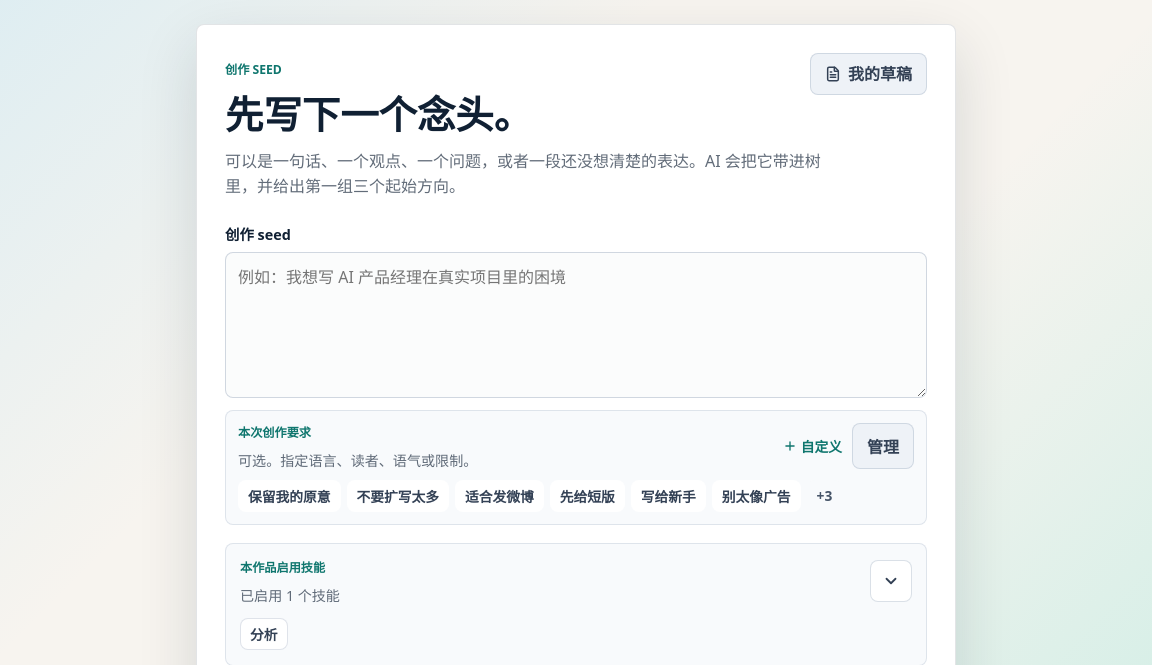
RootMemorySetup › keeps the custom request textarea collapsed until needed
The width and height of the screenshot is (1152, 665).
Expected: the field labelled "自定义创作要求" is not shown
Click the button with aria-label "展开自定义创作要求" at (812, 446), box [783,432,842,460]
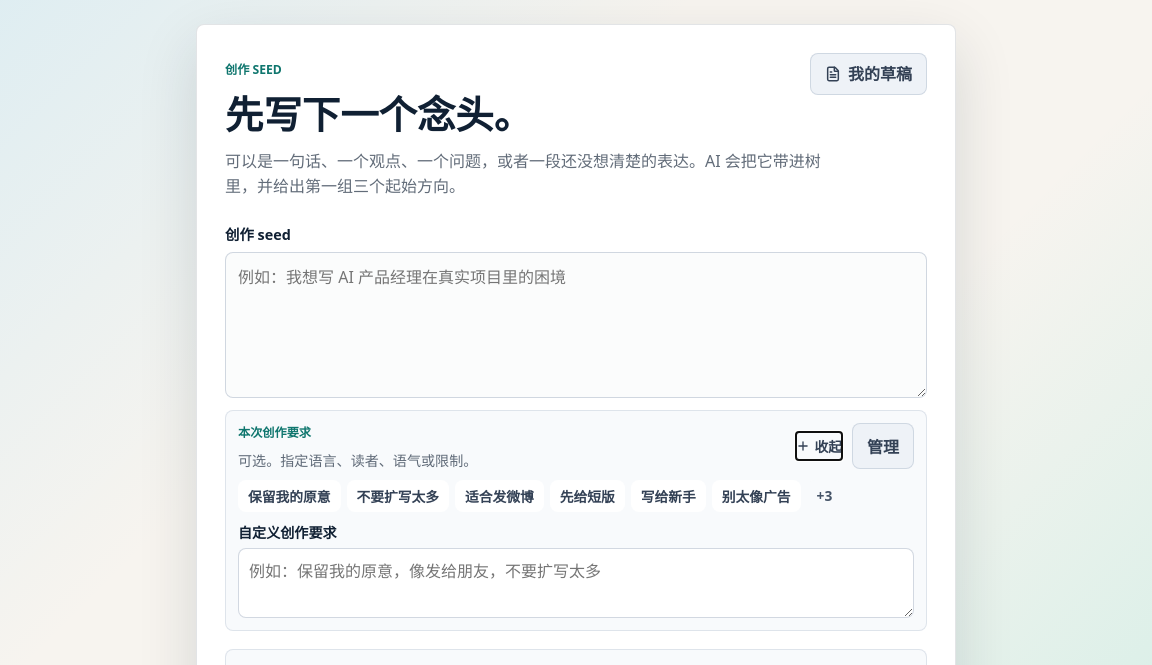
Now the text box labelled "自定义创作要求" is shown, box [238,548,914,618]
Now the button with aria-label "收起自定义创作要求" is shown, box [796,432,842,460]
